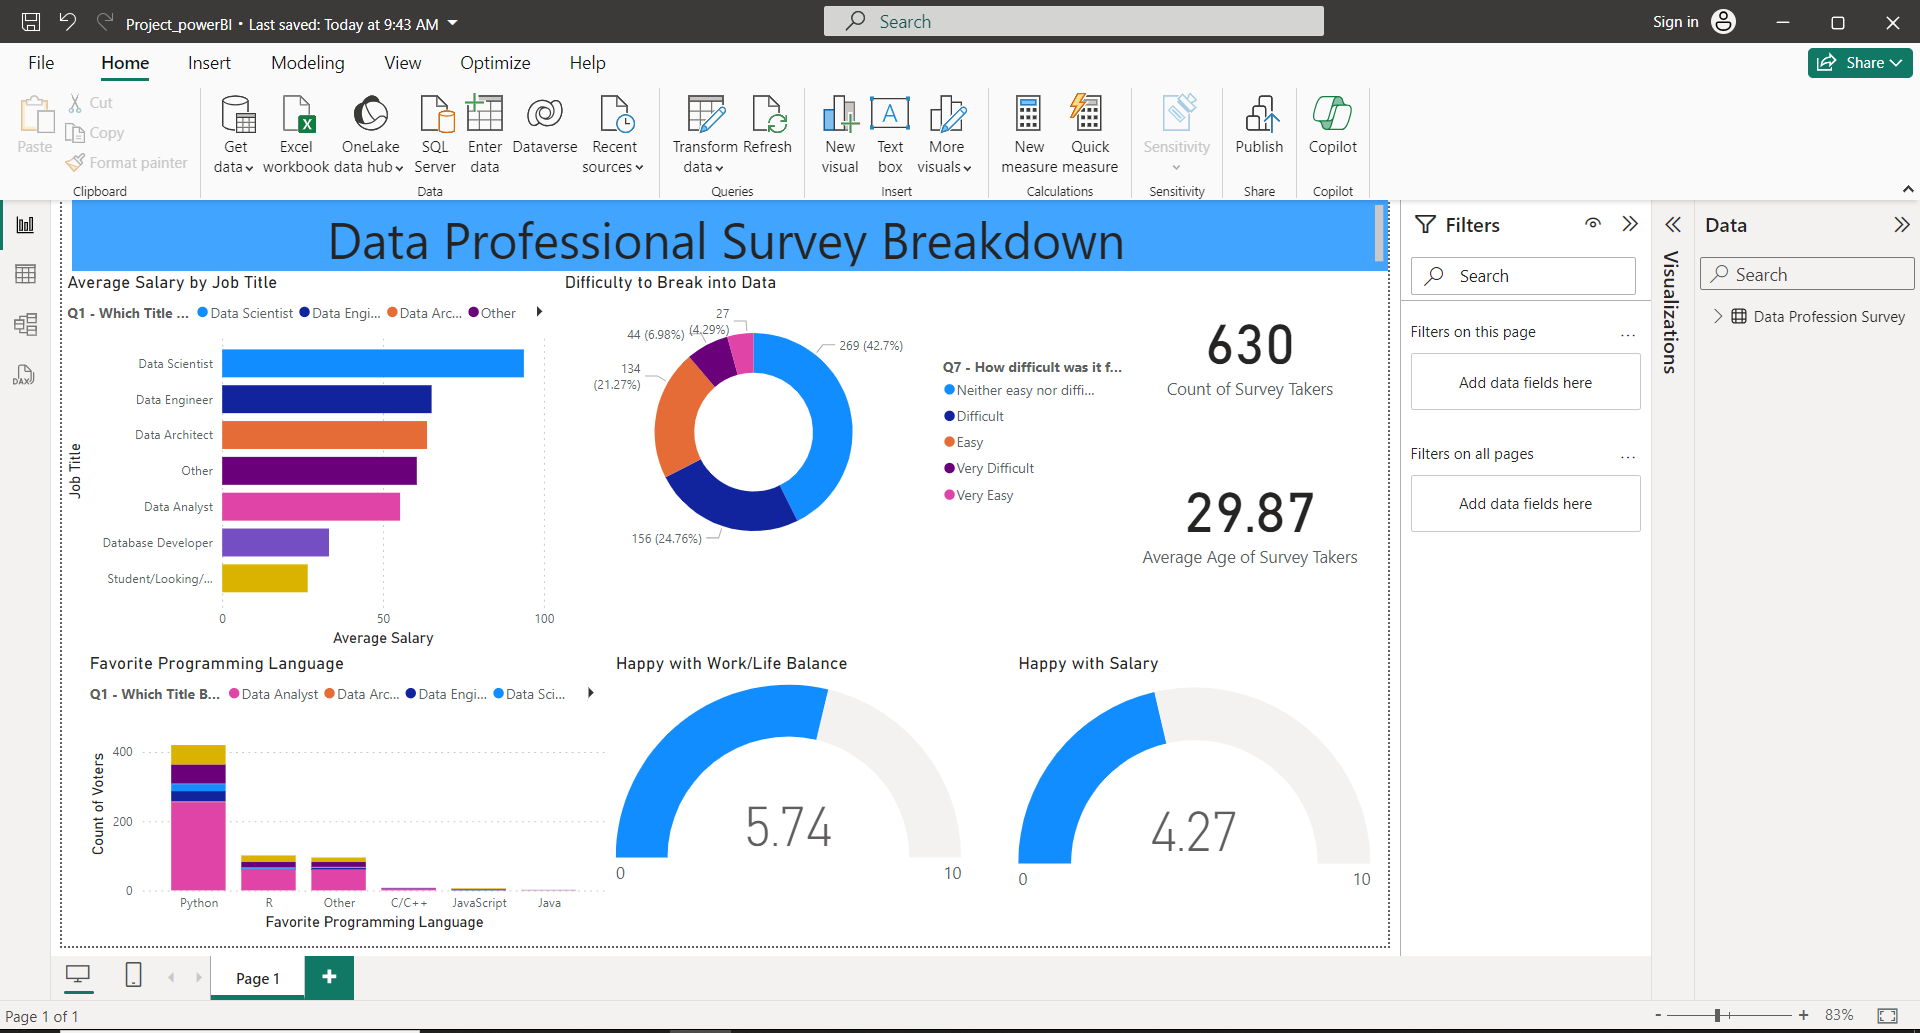

The dashboard page shown, as its layout file describes it:
{"tool":"powerbi","page":{"name":"Page 1","canvas":[1280,720],"ordinal":0},"visuals":[{"type":"textbox","box":[9.6,0,1270.7,68.6],"z":0},{"type":"card","fields":{"Values":["CountNonNull(Data Profession Survey.Unique ID)"]},"box":[1013.3,68.3,266.7,150],"z":1000},{"type":"card","fields":{"Values":["Avg(Data Profession Survey.Q10 - Current Age)"]},"box":[1013.3,230,266.7,150],"z":2000},{"type":"barChart","title":"Average Salary by Job Title","fields":{"Category":["Data Profession Survey.Q1 - Which Title Best Fits your Current Role?.1"],"Y":["Avg(Data Profession Survey.Average Salary)"],"Series":["Data Profession Survey.Q1 - Which Title Best Fits your Current Role?.1"]},"box":[0,68.8,480.3,367.1],"z":3000},{"type":"columnChart","title":"Favorite Programming Language","fields":{"Category":["Data Profession Survey.Q5 - Favorite Programming Language.1"],"Y":["CountNonNull(Data Profession Survey.Unique ID)"],"Series":["Data Profession Survey.Q1 - Which Title Best Fits your Current Role?.1"]},"box":[21.7,436.7,508.3,273.3],"z":4000},{"type":"gauge","title":"Happy with Work/Life Balance","fields":{"Y":["Avg(Data Profession Survey.Q6 - How Happy are you in your Current Position with the following? (Work/Life Balance))"],"MinValue":["Min(Data Profession Survey.Q6 - How Happy are you in your Current Position with the following? (Work/Life Balance))"],"MaxValue":["Max(Data Profession Survey.Q6 - How Happy are you in your Current Position with the following? (Work/Life Balance))1"]},"box":[530,436.7,343.3,241.7],"z":5000},{"type":"gauge","title":"Happy with Salary","fields":{"Y":["Avg(Data Profession Survey.Q6 - How Happy are you in your Current Position with the following? (Salary))"],"MinValue":["Min(Data Profession Survey.Q6 - How Happy are you in your Current Position with the following? (Salary))"],"MaxValue":["Max(Data Profession Survey.Q6 - How Happy are you in your Current Position with the following? (Salary))"]},"box":[918.3,436.7,350,250],"z":6000},{"type":"donutChart","title":"Difficulty to Break into Data","fields":{"Category":["Data Profession Survey.Q7 - How difficult was it for you to break into Data?"],"Y":["CountNonNull(Data Profession Survey.Q7 - How difficult was it for you to break into Data?)"]},"box":[480,68.3,545,291.7],"z":7000}]}

Visuals, with their boxes on the page's 1280x720 design canvas (x1, y1, x2, y2). These are canvas units, not pixel positions in the 1920x1033 screenshot, which may show the page scaled, cropped or inside an application window:
textbox: (x1=10, y1=0, x2=1280, y2=69)
card - CountNonNull(Data Profession Survey.Unique ID): (x1=1013, y1=68, x2=1280, y2=218)
card - Avg(Data Profession Survey.Q10 - Current Age): (x1=1013, y1=230, x2=1280, y2=380)
"Average Salary by Job Title" barChart: (x1=0, y1=69, x2=480, y2=436)
"Favorite Programming Language" columnChart: (x1=22, y1=437, x2=530, y2=710)
"Happy with Work/Life Balance" gauge: (x1=530, y1=437, x2=873, y2=678)
"Happy with Salary" gauge: (x1=918, y1=437, x2=1268, y2=687)
"Difficulty to Break into Data" donutChart: (x1=480, y1=68, x2=1025, y2=360)
